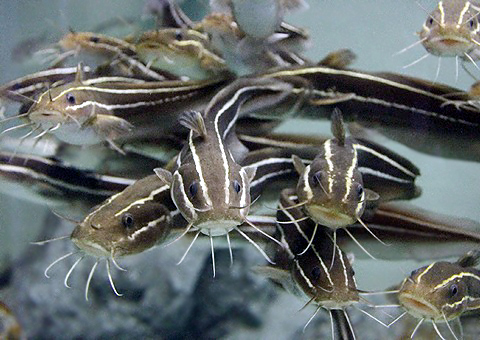gonzui: (164, 81, 277, 253)
